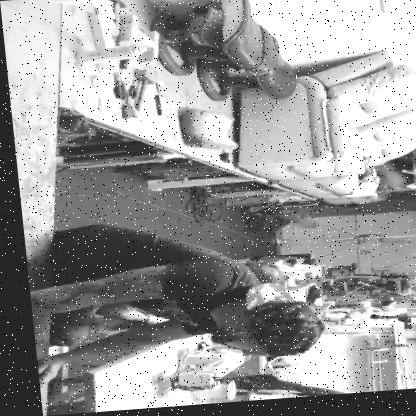streamer: (19, 211, 325, 388), (35, 260, 283, 348)
